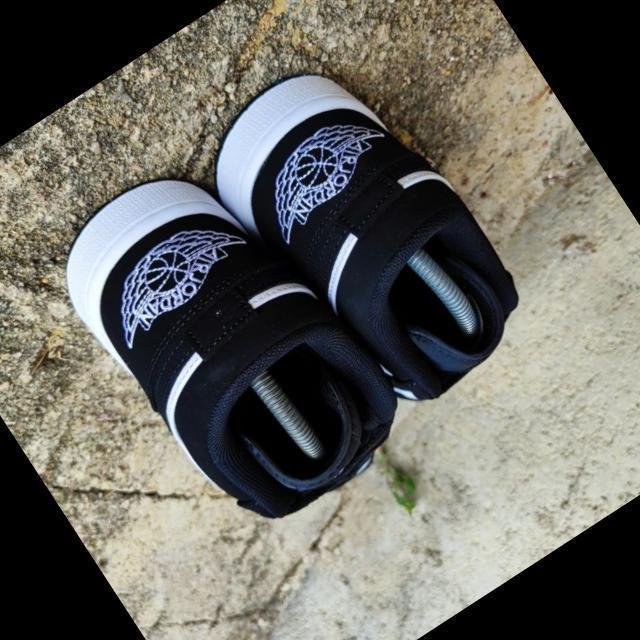nike fake jordan 1: (31, 125, 415, 552), (175, 27, 548, 442)
